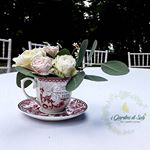cups: (18, 75, 77, 115)
